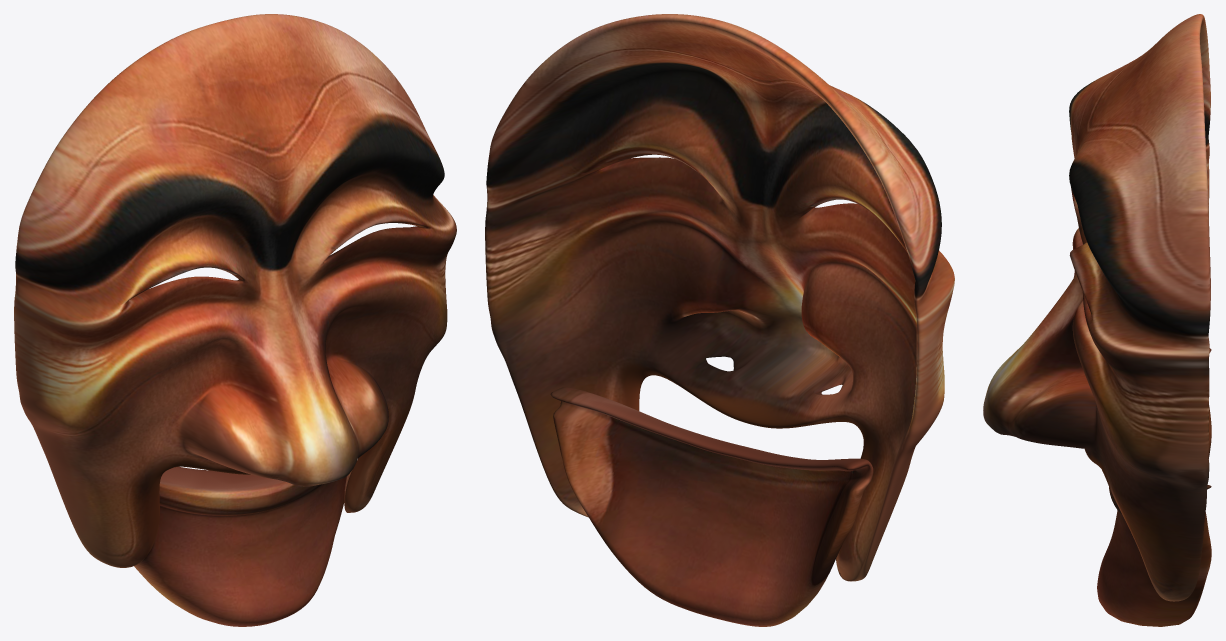
Rendered from YangbanTal (2).FBX.
3 views of the same model, side by side, from view 1: azimuth 30°, elevation 25°; view 2: azimuth 150°, elevation 25°; view 3: azimuth 270°, elevation 25° (orthographic). The views are drawn at different scales.
Parts seen in each view (by area): view 1: Tal Upper Origin(Yang) test, Tal Bottom Origin (Yang) test; view 2: Tal Upper Origin(Yang) test, Tal Bottom Origin (Yang) test; view 3: Tal Upper Origin(Yang) test, Tal Bottom Origin (Yang) test.
Boxes of the visible parts, x1=… form: Tal Upper Origin(Yang) test: x1=14, y1=14, x2=456, y2=567; Tal Bottom Origin (Yang) test: x1=134, y1=466, x2=352, y2=626; Tal Upper Origin(Yang) test: x1=485, y1=14, x2=954, y2=581; Tal Bottom Origin (Yang) test: x1=550, y1=387, x2=873, y2=626; Tal Upper Origin(Yang) test: x1=983, y1=14, x2=1210, y2=601; Tal Bottom Origin (Yang) test: x1=1097, y1=348, x2=1211, y2=626.
Bounding box in the file's own units: 14.97 × 19.94 × 7.17.
Materials: 2 (2 with a texture image).
